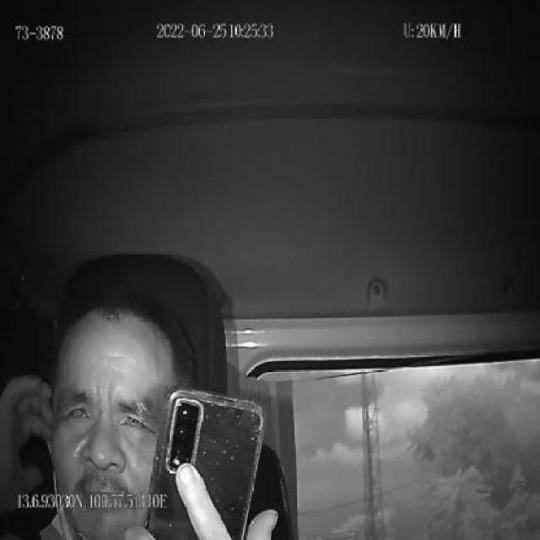phone: (143, 385, 265, 540)
